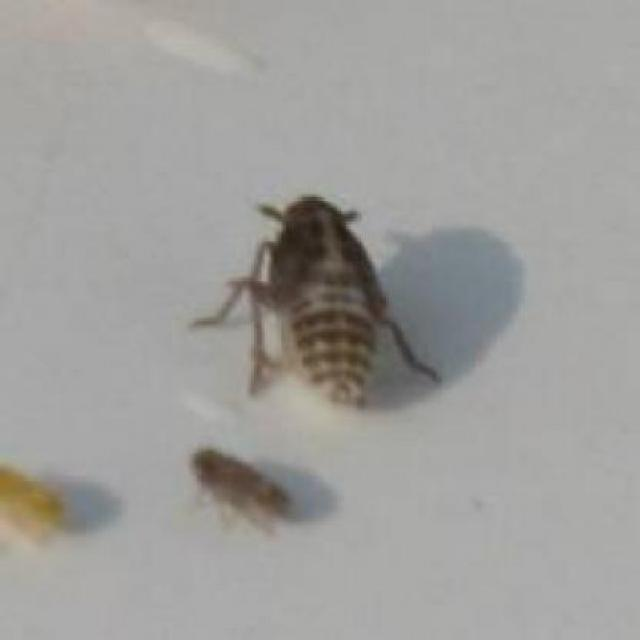brown-planthopper: (251, 196, 389, 404)
